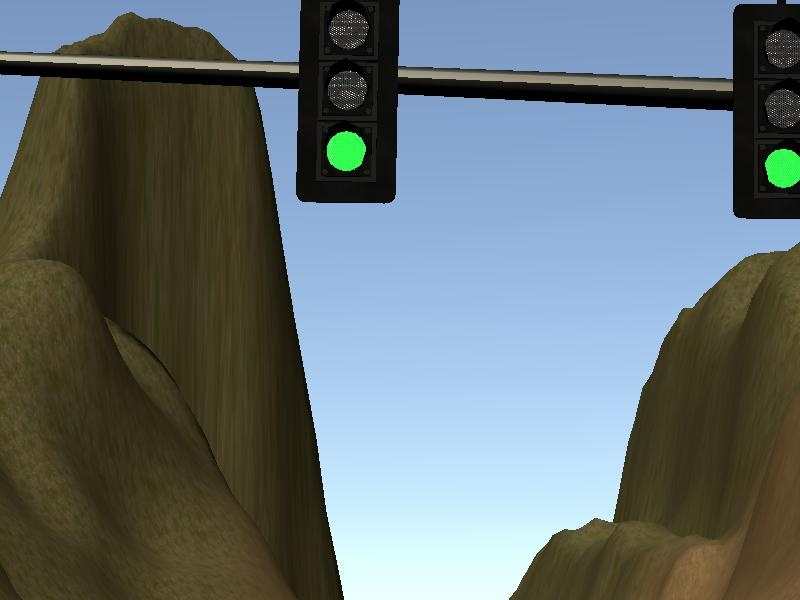traffic_light_green: (1, 1, 800, 228)
